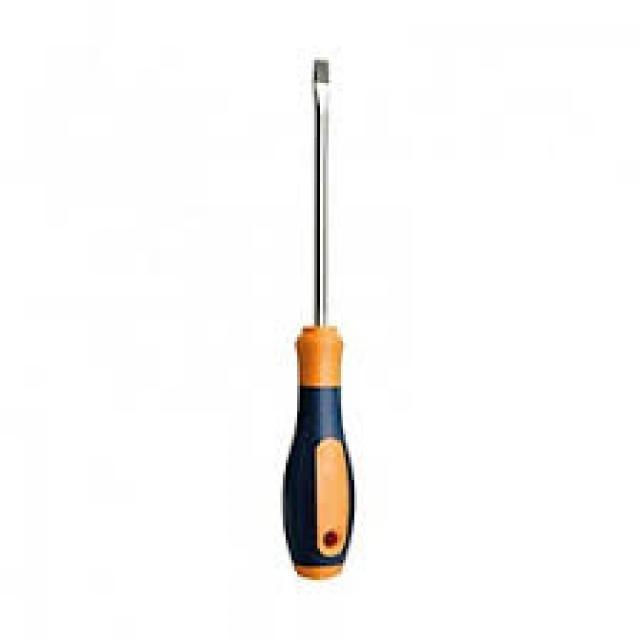screwdriver: (274, 54, 363, 589)
